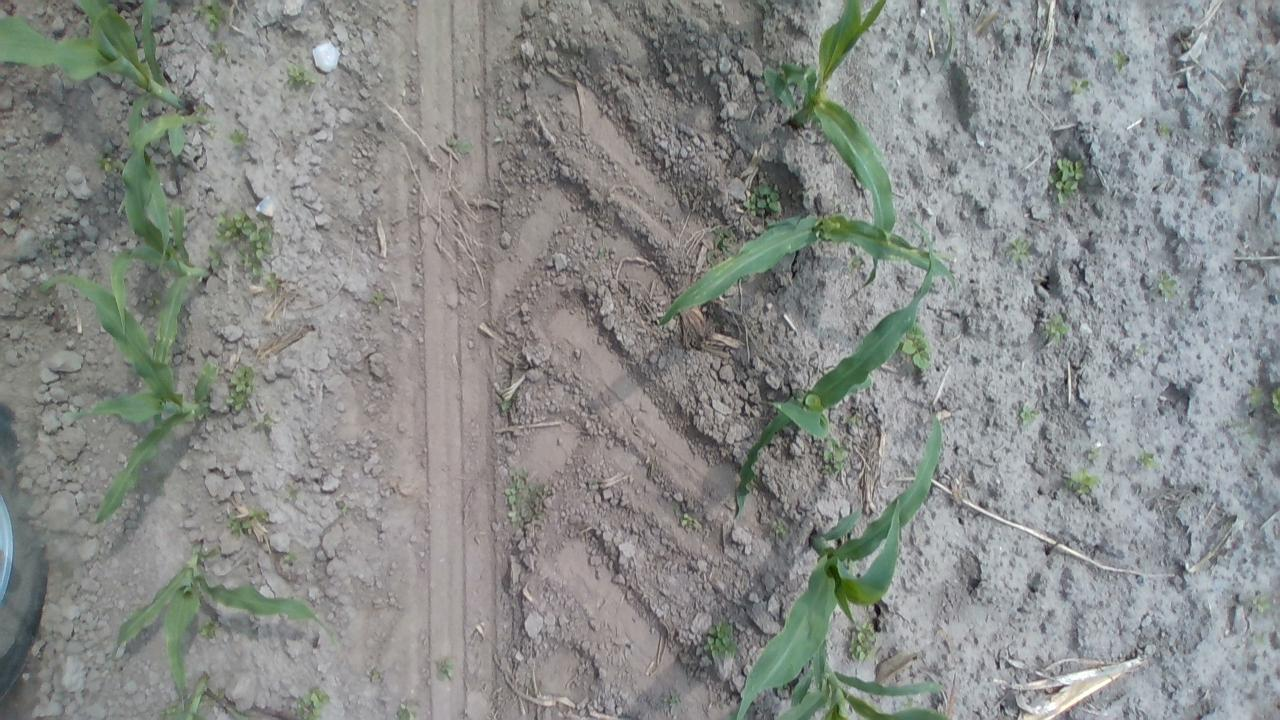Maize: (720, 213, 940, 530), (728, 405, 945, 720), (38, 267, 220, 531), (654, 197, 964, 335), (756, 0, 899, 293), (108, 531, 340, 708), (0, 0, 203, 160), (106, 106, 214, 381), (752, 628, 934, 720), (138, 672, 268, 720)
Weeds: (202, 205, 280, 282), (502, 463, 556, 536), (1047, 152, 1087, 208), (699, 614, 742, 664), (897, 320, 933, 378), (844, 616, 884, 668), (220, 500, 270, 536), (224, 363, 258, 414), (1058, 463, 1110, 496), (187, 0, 234, 36), (741, 182, 784, 221), (818, 432, 855, 476), (290, 685, 336, 718), (1036, 308, 1074, 346), (704, 221, 735, 267), (281, 60, 322, 93), (1243, 382, 1280, 417), (94, 150, 132, 182), (1003, 234, 1035, 266), (1227, 419, 1259, 451), (204, 38, 243, 64), (1155, 268, 1182, 303), (193, 614, 224, 644), (766, 514, 795, 546), (443, 132, 474, 160), (226, 125, 258, 152), (1242, 591, 1276, 616), (248, 410, 282, 435), (492, 122, 521, 151), (1016, 399, 1040, 432), (429, 654, 456, 682), (844, 406, 870, 435), (843, 248, 864, 283), (282, 477, 309, 504), (1136, 448, 1164, 474), (262, 270, 288, 298), (674, 510, 704, 531), (392, 701, 425, 720), (1108, 50, 1134, 74), (654, 686, 680, 710), (1068, 76, 1092, 101), (364, 662, 387, 684), (1156, 120, 1178, 142), (368, 288, 392, 308), (492, 103, 516, 122), (1083, 444, 1103, 466), (332, 498, 353, 517), (1246, 628, 1268, 646), (45, 242, 64, 261), (500, 395, 519, 412), (1132, 340, 1148, 358), (284, 548, 300, 566), (588, 478, 602, 490)
